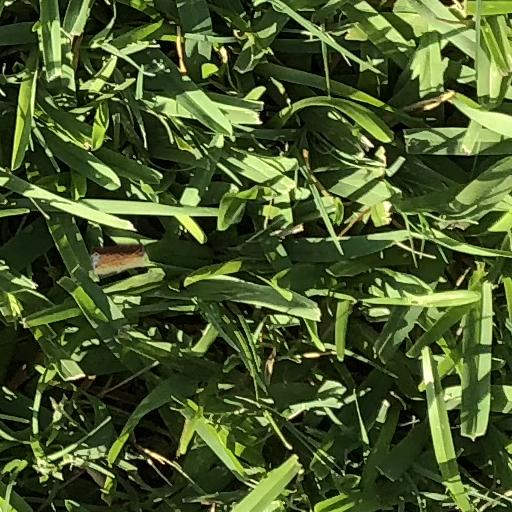smoke: (92, 244, 144, 274)
